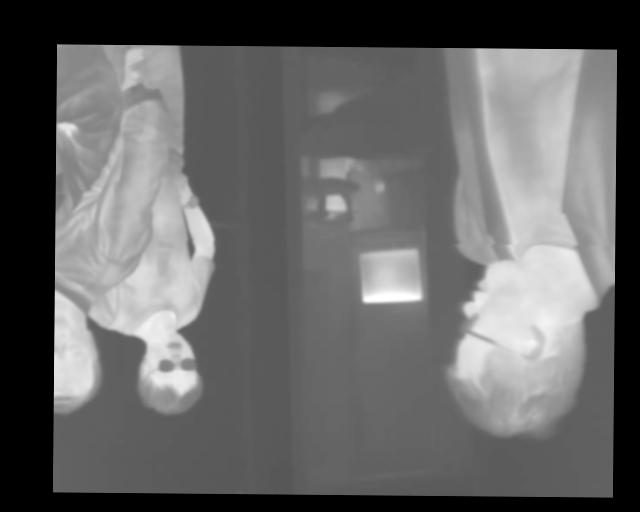face: (138, 332, 202, 415)
